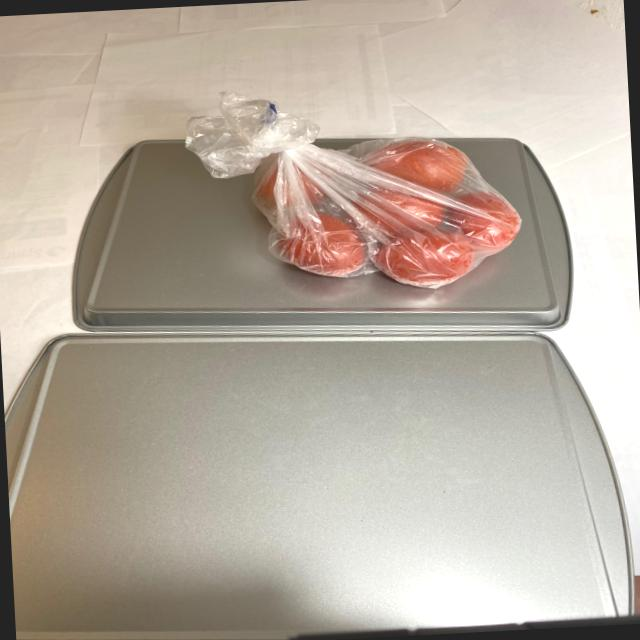tomato: (230, 112, 530, 299)
